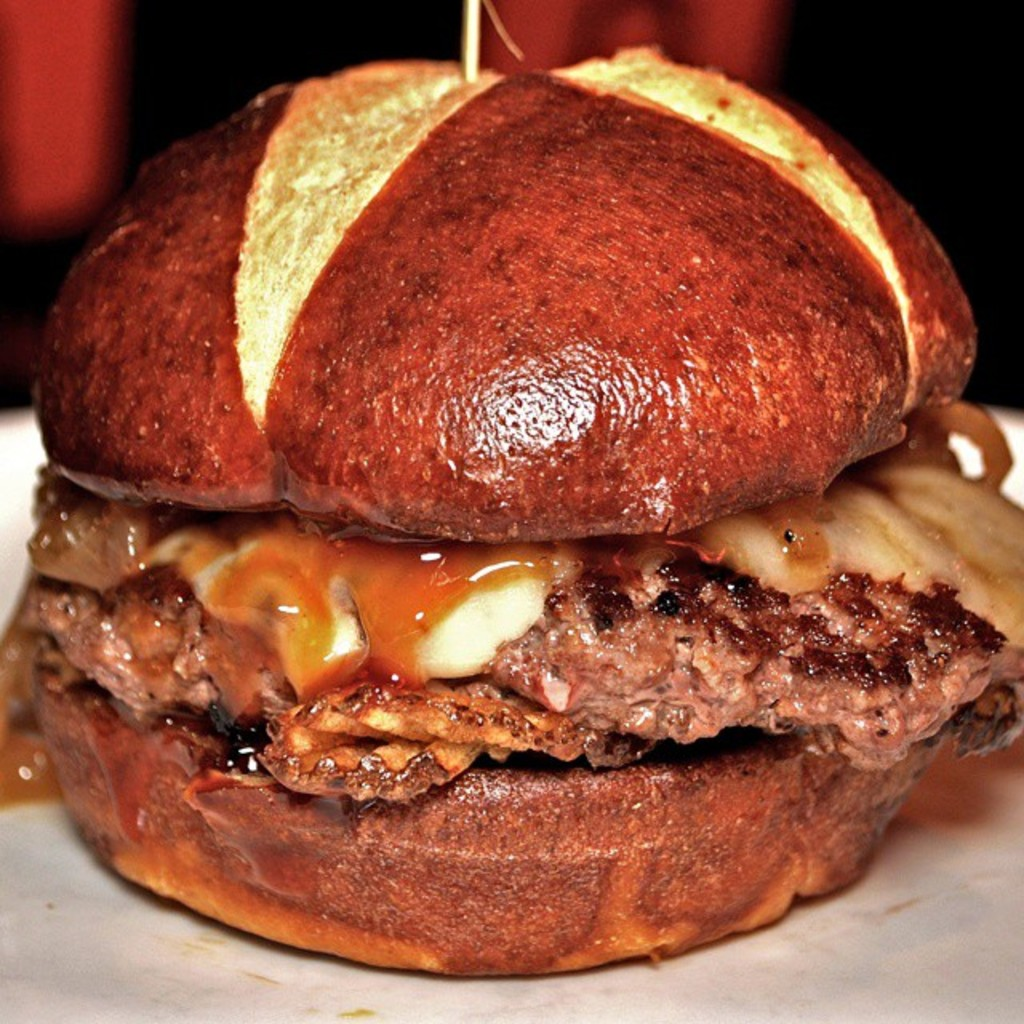Hamburger: (0, 44, 1022, 984)
